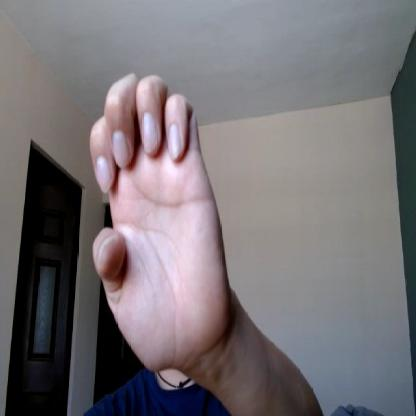E: (89, 71, 229, 367)
